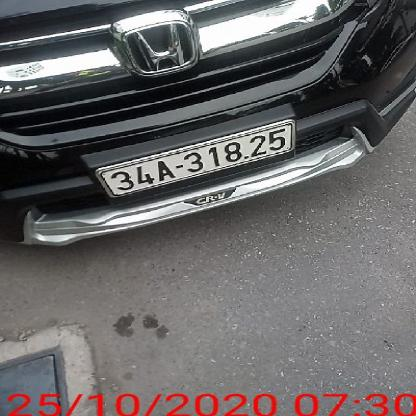biensoxe: (94, 120, 297, 197)
